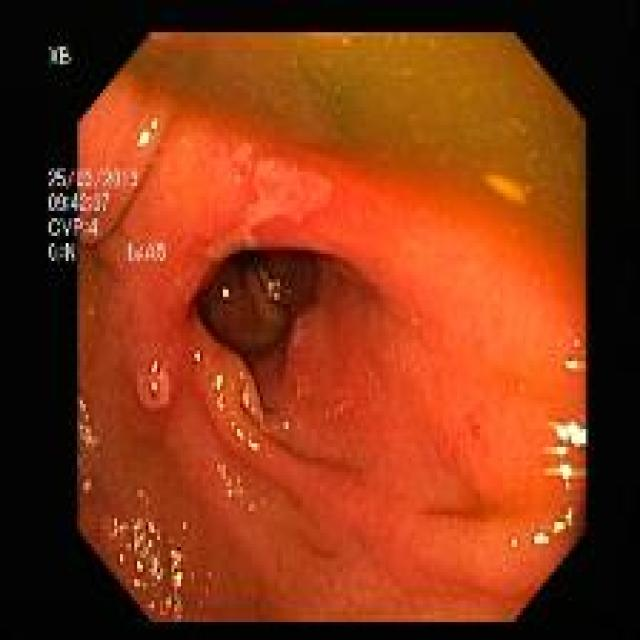ulcerative-colitis: (50, 33, 589, 622)
